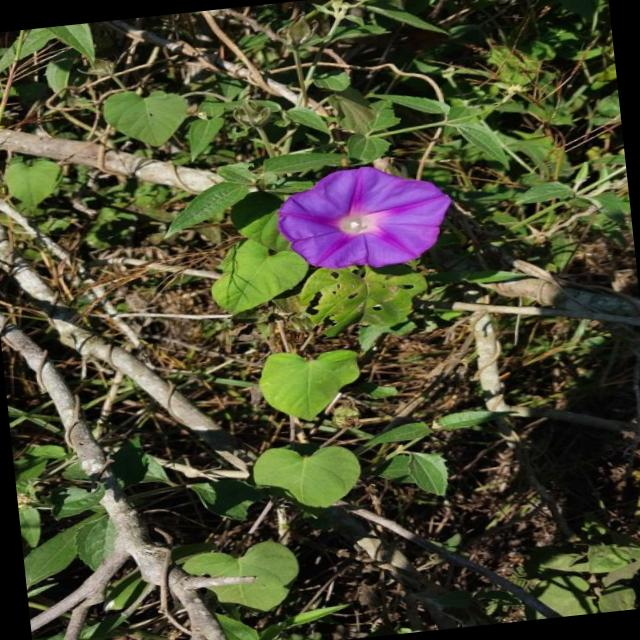ipomoea: (266, 156, 461, 280)
